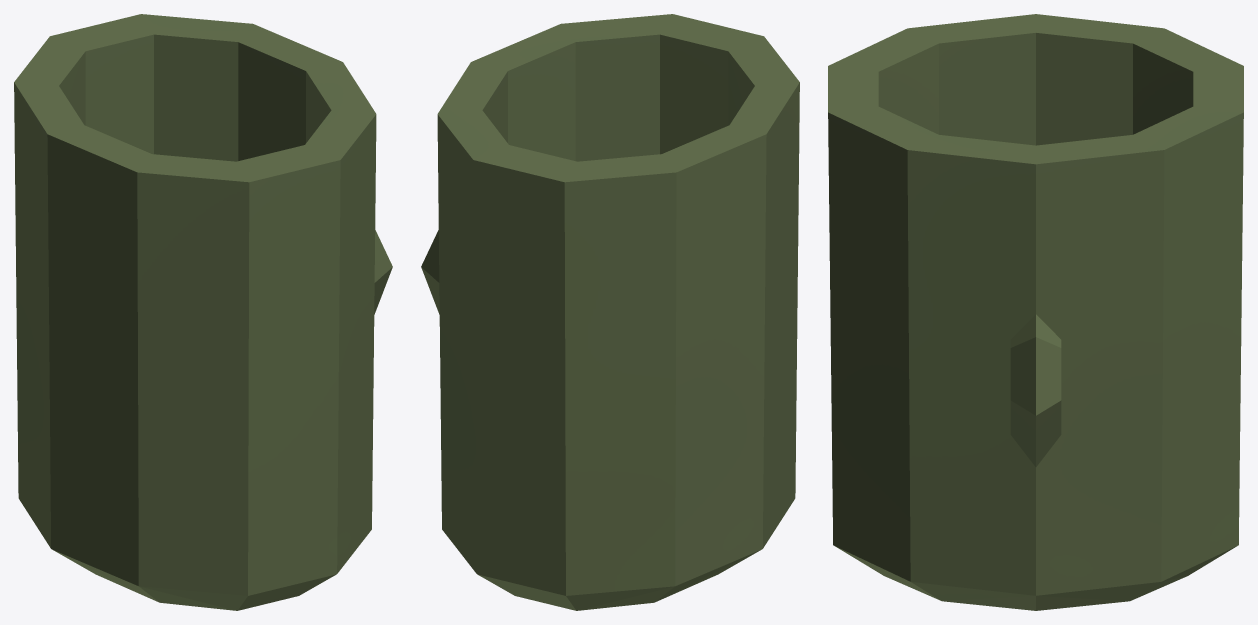
File: WarrensC_WVC058_Cup_Mars_SM.fbx
The picture shows the model from 3 angles, left to right: view 1: azimuth 30°, elevation 25°; view 2: azimuth 150°, elevation 25°; view 3: azimuth 270°, elevation 25°; orthographic projection. The views are drawn at different scales.
Visible parts, largest first — view 1: WarrensC_WVC058_Cup_Mars_SM.001; view 2: WarrensC_WVC058_Cup_Mars_SM.001; view 3: WarrensC_WVC058_Cup_Mars_SM.001.
Boxes of the visible parts, x1,y1,x2,y2 form: WarrensC_WVC058_Cup_Mars_SM.001: (14, 14, 392, 610); WarrensC_WVC058_Cup_Mars_SM.001: (421, 14, 799, 610); WarrensC_WVC058_Cup_Mars_SM.001: (828, 14, 1243, 610).
Bounding box in the file's own units: 20 × 20 × 25.
